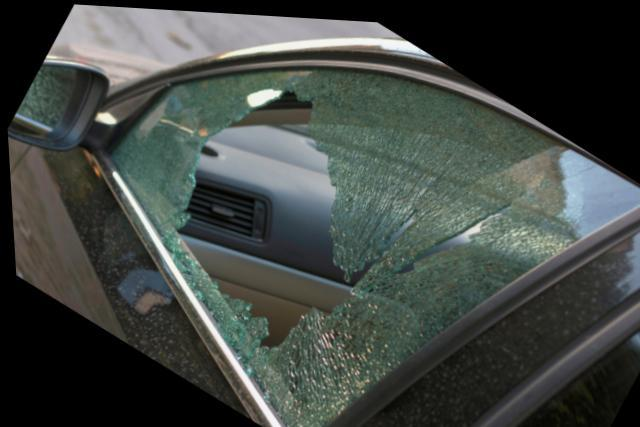glass shatter: (106, 66, 640, 427)
